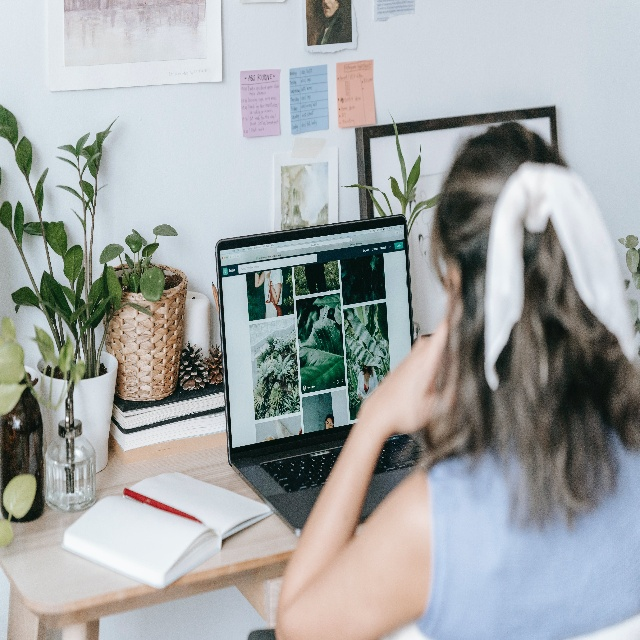Sin_guantes: (368, 308, 455, 435)
